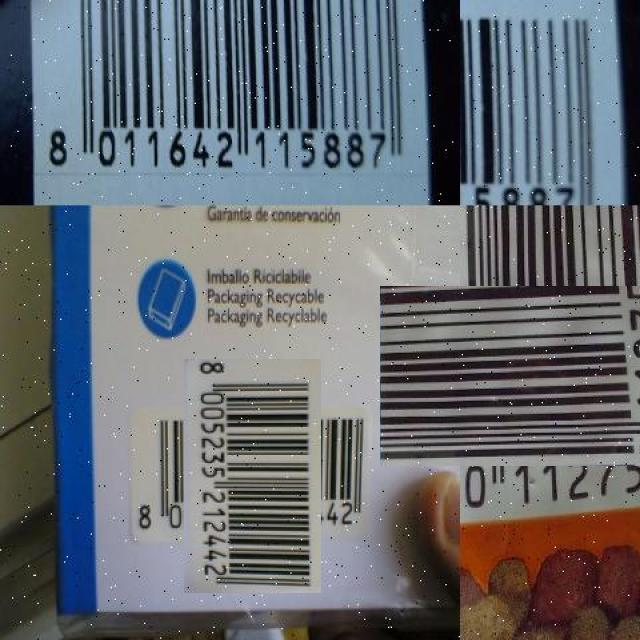Barcode: (27, 0, 429, 206), (419, 246, 640, 507), (160, 383, 345, 570), (460, 0, 622, 206)
